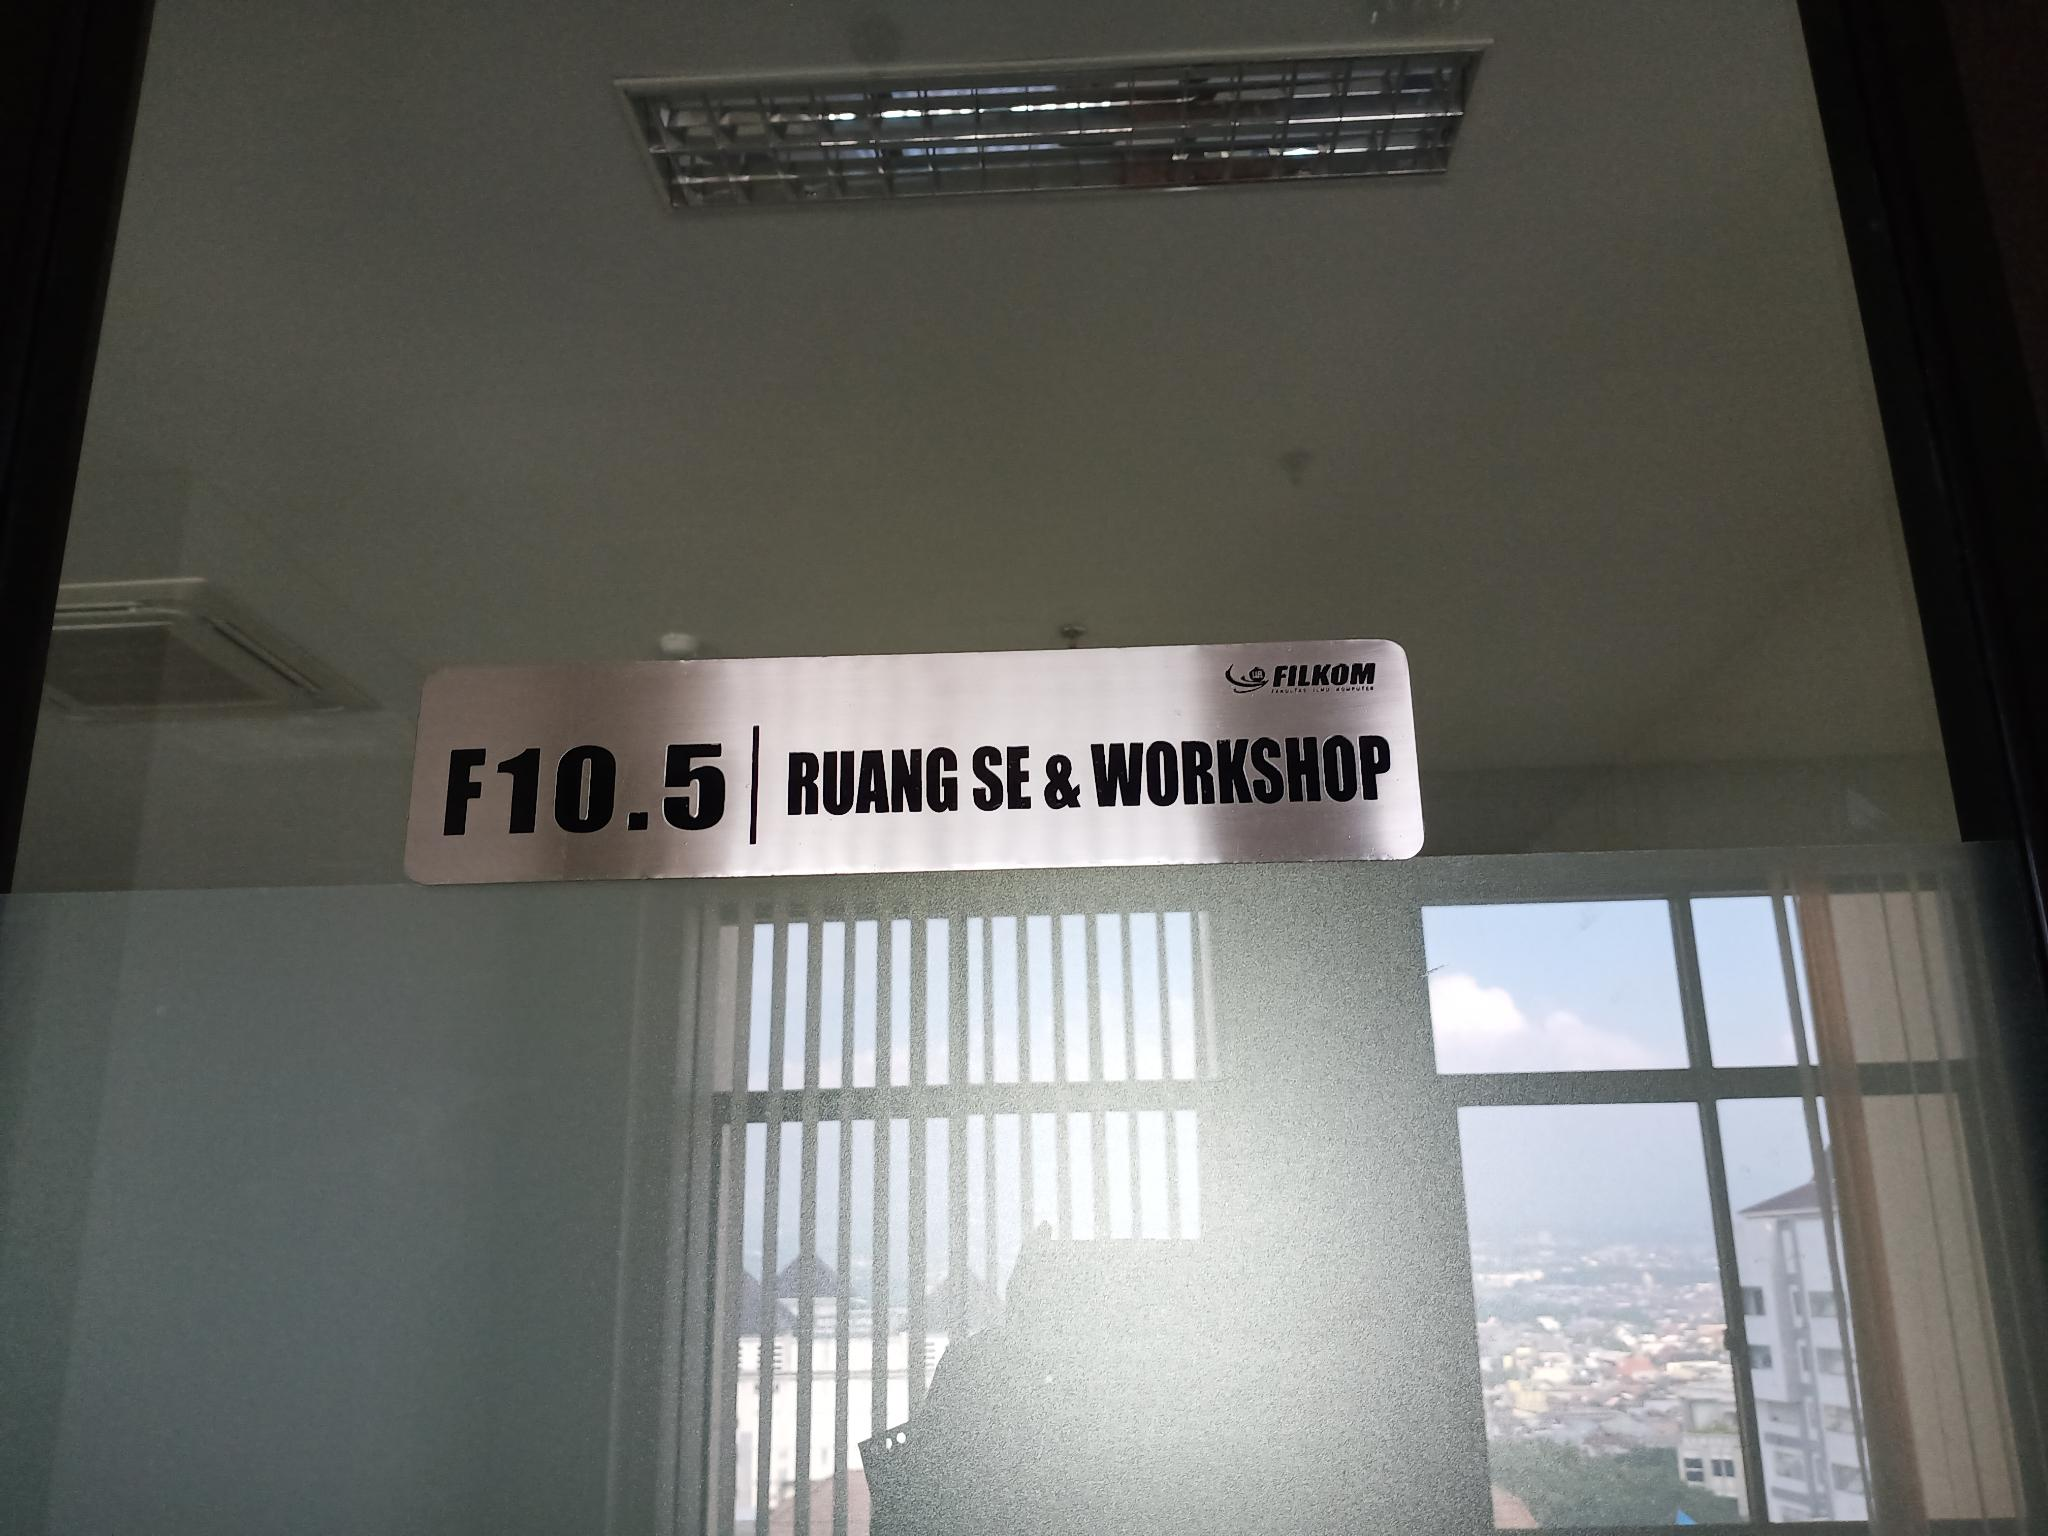plate: (391, 631, 1436, 895)
